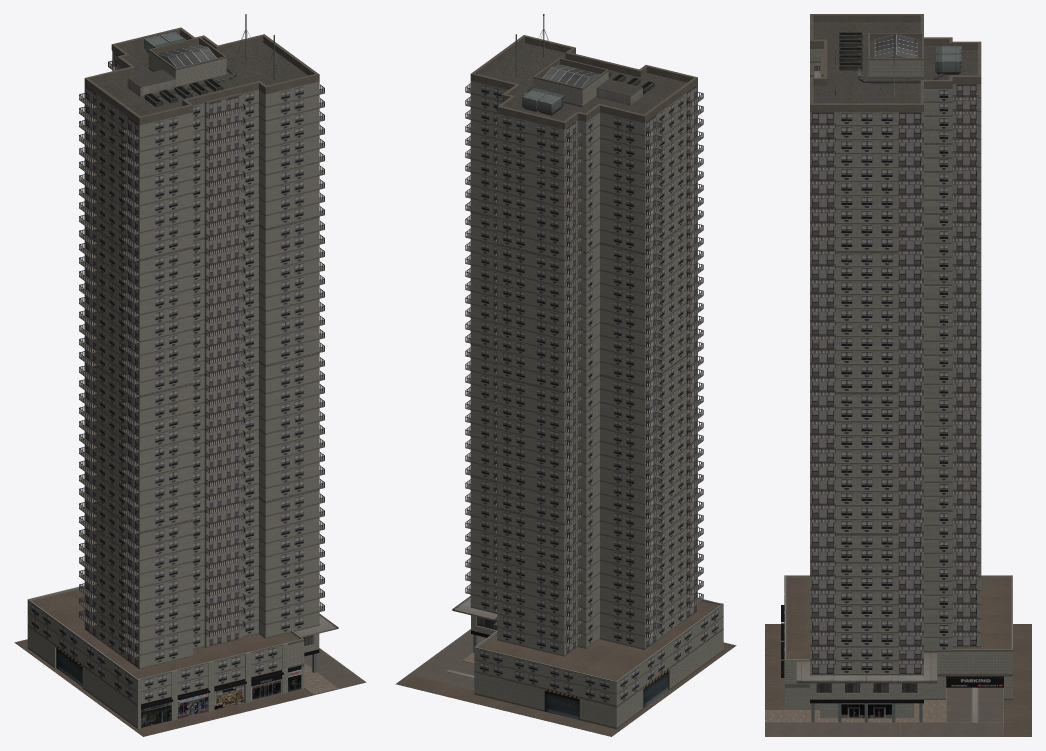
File: nyhirise.glb
3 views of the same model, side by side, from view 1: azimuth 30°, elevation 25°; view 2: azimuth 150°, elevation 25°; view 3: azimuth 270°, elevation 25° (orthographic). The views are drawn at different scales.
Visible parts, largest first — view 1: hirise1_hirise1_0; view 2: hirise1_hirise1_0; view 3: hirise1_hirise1_0.
Boxes of the visible parts, bbox=[...] form: hirise1_hirise1_0: bbox=[14, 14, 366, 736]; hirise1_hirise1_0: bbox=[395, 14, 736, 736]; hirise1_hirise1_0: bbox=[765, 14, 1031, 736].
Bounding box in the file's own units: 5400 × 14711 × 5400.
1 material, 1 textured.
